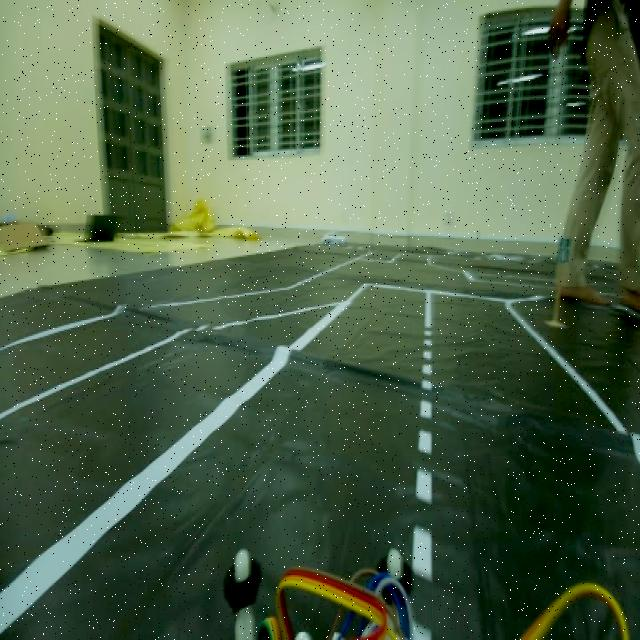highway_entry: (556, 233, 571, 271)
